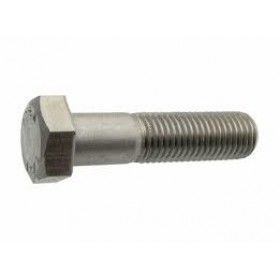screw: (21, 96, 258, 184)
